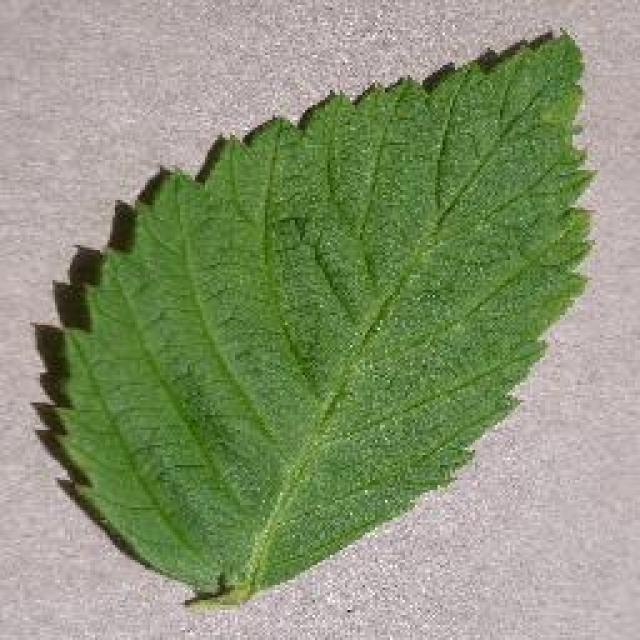Ras_healthy: (96, 78, 578, 515)
